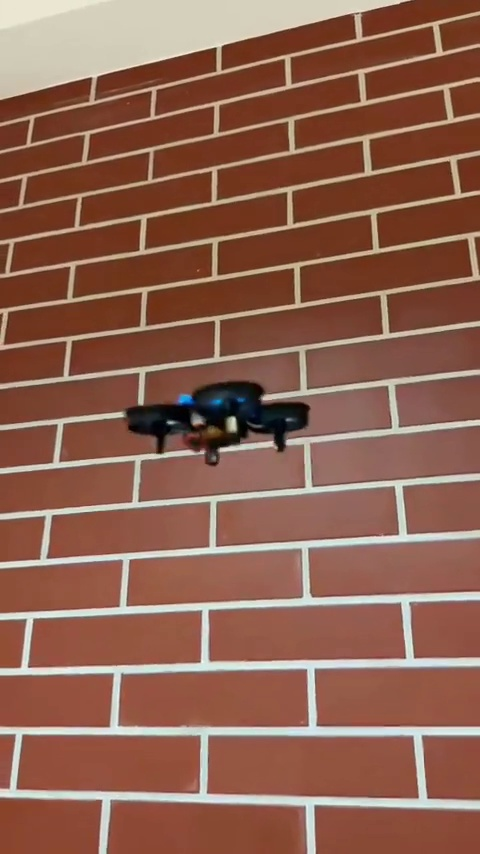drone: (119, 380, 310, 467)
